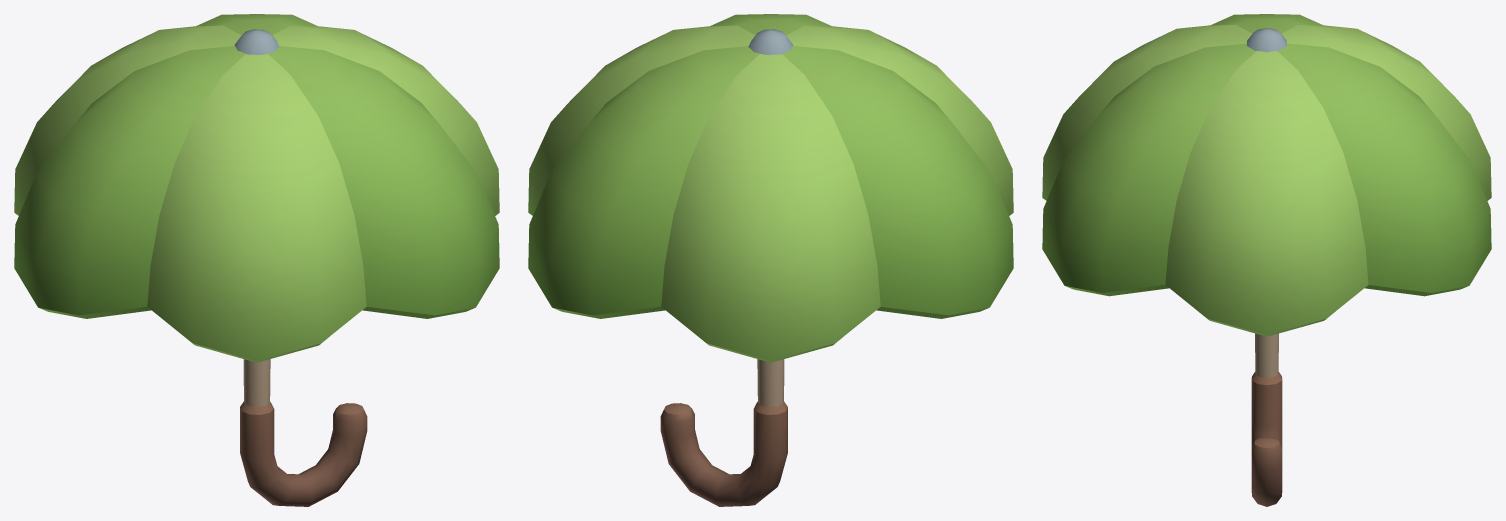
Rendered from umbrella_green.glb.
3 renders of one model, left to right at view 1: azimuth 30°, elevation 25°; view 2: azimuth 150°, elevation 25°; view 3: azimuth 270°, elevation 25°, orthographic. The views are drawn at different scales.
Visible parts, largest first — view 1: umbrella_green; view 2: umbrella_green; view 3: umbrella_green.
Part boxes in pixels (left/top/right/bottom): umbrella_green: left=14, top=14, right=499, bottom=506; umbrella_green: left=528, top=14, right=1013, bottom=506; umbrella_green: left=1042, top=14, right=1491, bottom=506.
Bounding box in the file's own units: 1.77 × 1.86 × 1.68.
Materials: 1 (1 with a texture image).
